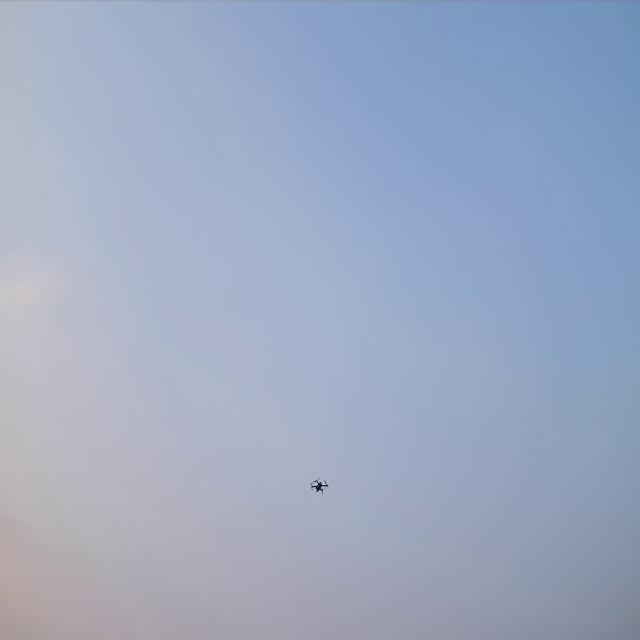UAV: (310, 476, 330, 495)
